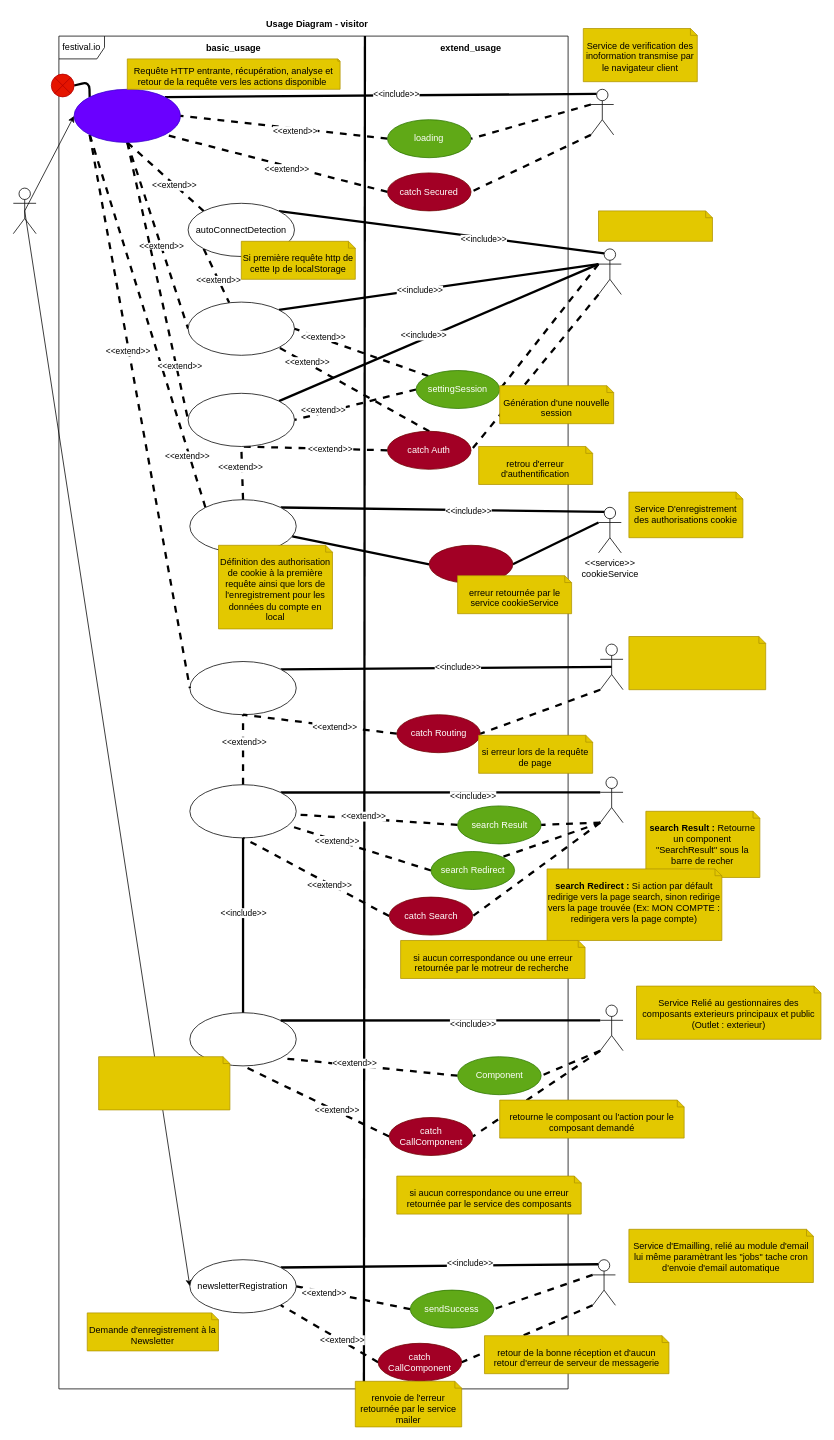
Image size: 834x1440. Some labels were removed from this diagram. Here are the shapes that lost their labels. From the top down, the centre of each, then its label:
point (126, 115): httpSecuried
point (602, 112): <<service>> antivirus http_connection_check
point (24, 210): visitor
point (655, 225): Service Authentification
point (609, 271): <<service>> authService
point (240, 328): signIn
point (240, 419): signUp
point (242, 526): cookies
point (470, 564): catch settingCookies
point (611, 666): <<service>> pageRouter
point (697, 663): Service de Gestion des Pages connecté au router des class de composants visuels
point (242, 688): Select Page
point (242, 811): Search
point (611, 799): <<service>> searchMotor
point (242, 1039): Call Component
point (611, 1027): <<service>> componentRouter
point (164, 1083): Gestionnaire (router) des composants (Chat, Preview Artist, etc...)
point (603, 1282): <<service>> mailerServices
